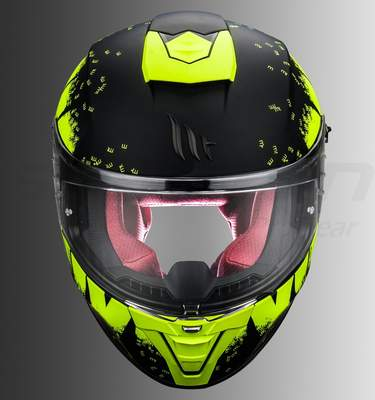with_helmet: (42, 7, 339, 392)
